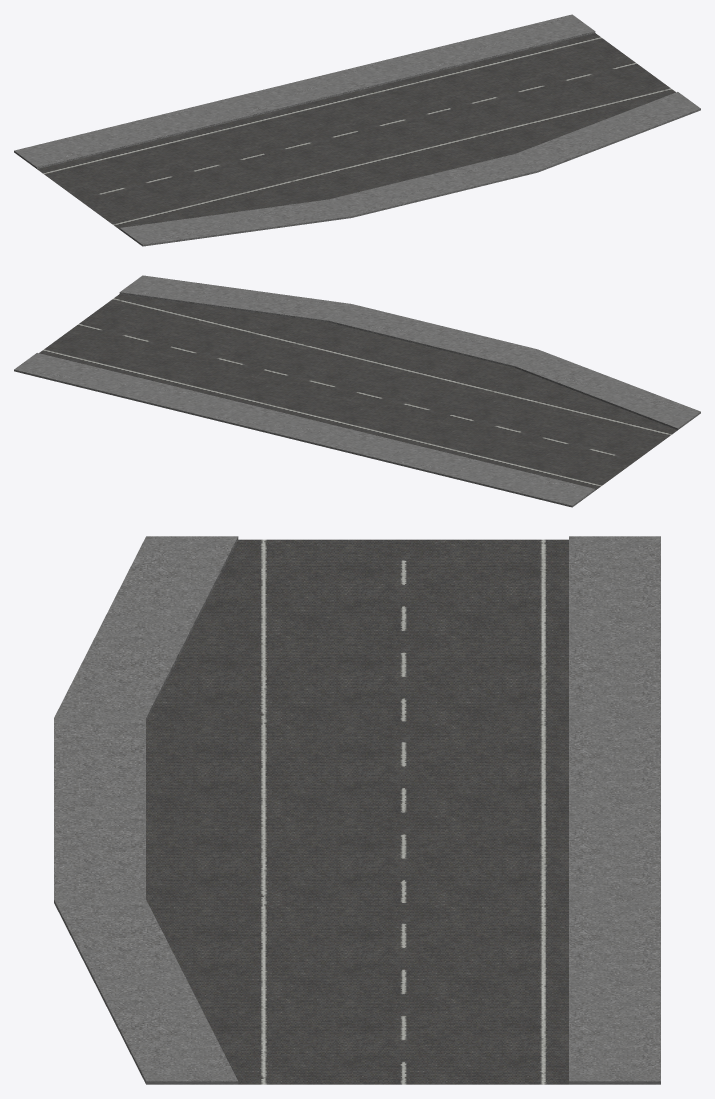
Rendered from Road_Stop.obj.
3 views of the same model, one above another, from view 1: azimuth 30°, elevation 25°; view 2: azimuth 150°, elevation 25°; view 3: azimuth 270°, elevation 25° (orthographic). The views are drawn at different scales.
Parts seen in each view (by area): view 1: Road_Stop; view 2: Road_Stop; view 3: Road_Stop.
Boxes of the visible parts, x1,y1,x2,y2 form: Road_Stop: (14, 14, 700, 246); Road_Stop: (14, 275, 700, 507); Road_Stop: (54, 536, 660, 1084).
Size of the model in its own units: 39 by 0.1182 by 18.36.
